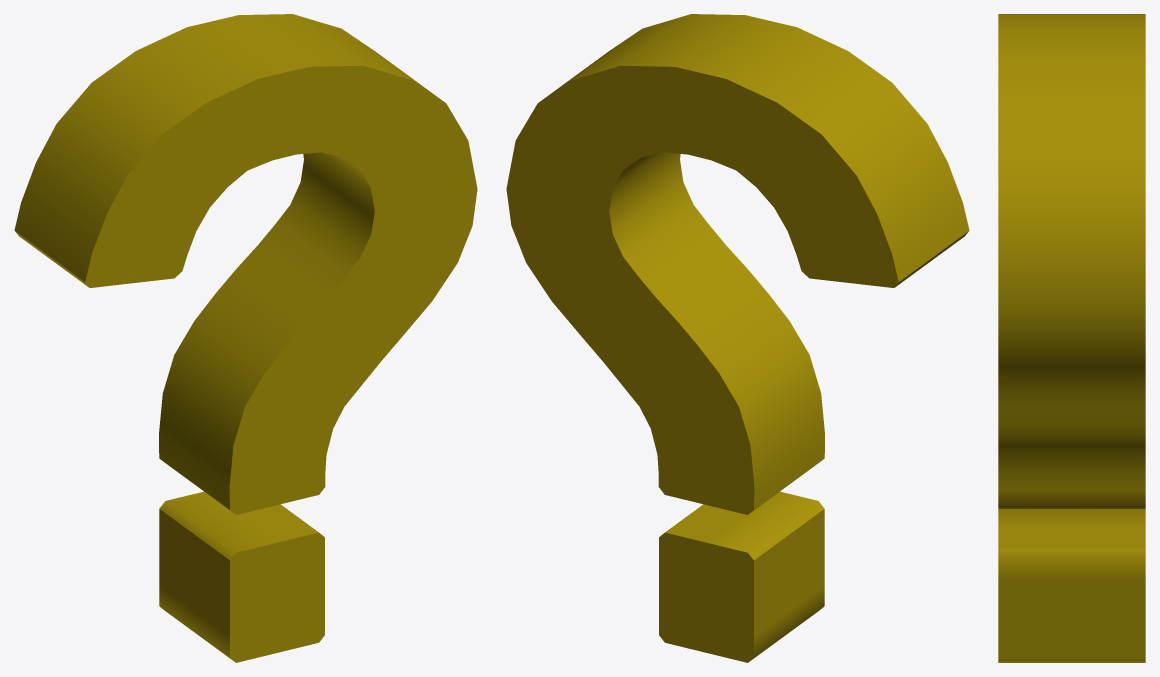
The model's file is question_obj.obj.
3 views of the same model, side by side, from view 1: azimuth 30°, elevation 25°; view 2: azimuth 150°, elevation 25°; view 3: azimuth 270°, elevation 25° (orthographic). The views are drawn at different scales.
Parts seen in each view (by area): view 1: Symbol_?_Untitled.014; view 2: Symbol_?_Untitled.014; view 3: Symbol_?_Untitled.014.
Part boxes in pixels (x1,y1,x2,y2): Symbol_?_Untitled.014: (14, 14, 477, 662); Symbol_?_Untitled.014: (506, 14, 969, 662); Symbol_?_Untitled.014: (998, 14, 1145, 662).
Bounding box in the file's own units: 0.7073 × 0.9969 × 0.2208.
